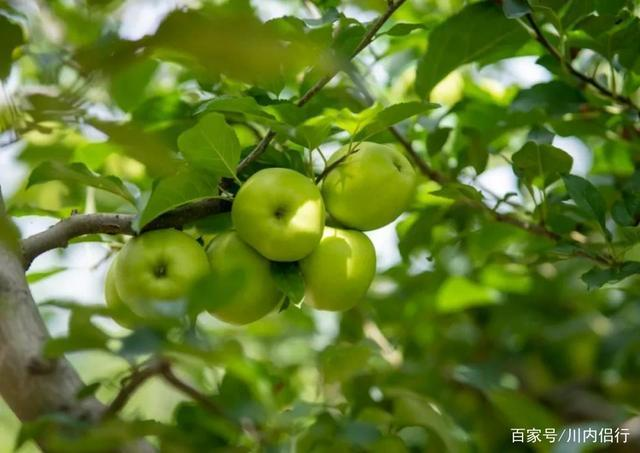apple: (112, 227, 212, 326), (232, 167, 324, 265), (318, 140, 420, 228), (199, 228, 285, 328), (294, 224, 377, 314)
